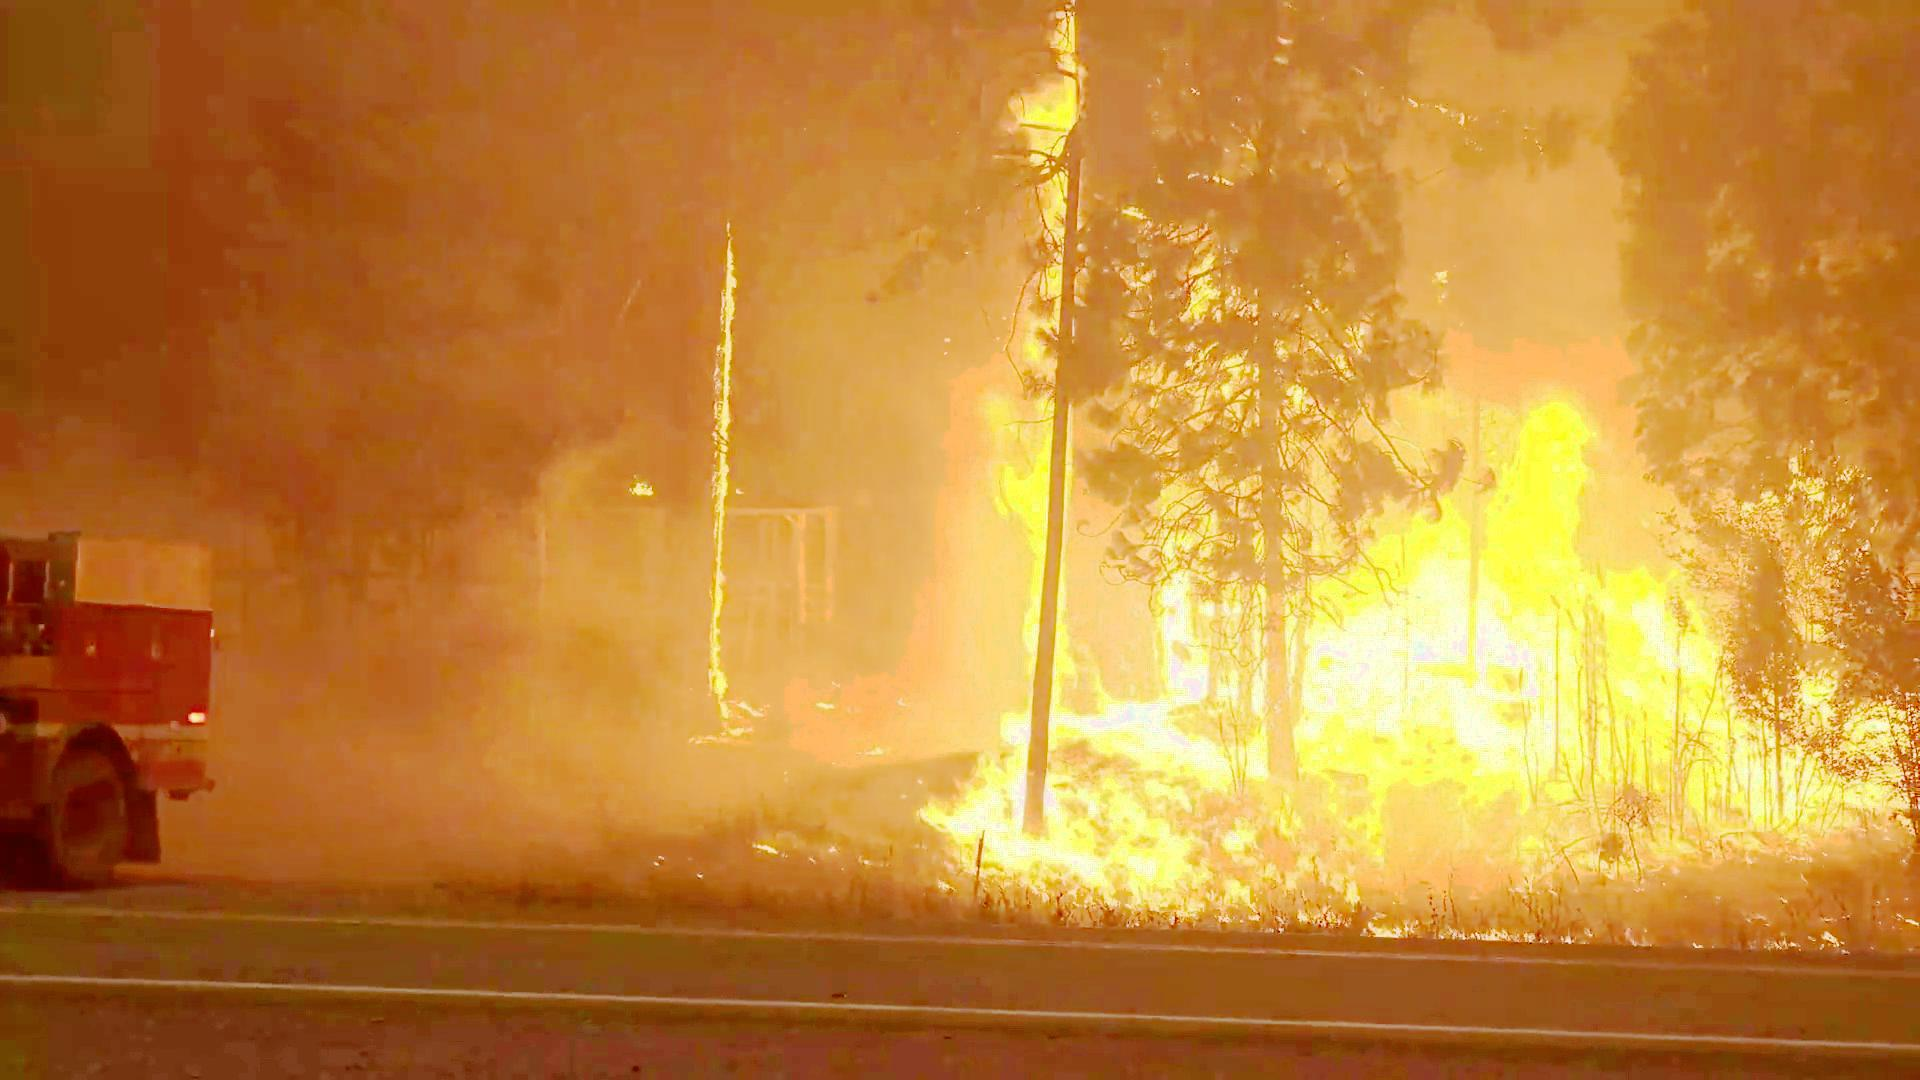fire: (1197, 388, 1643, 746), (1618, 563, 1907, 831), (968, 695, 1273, 853)
